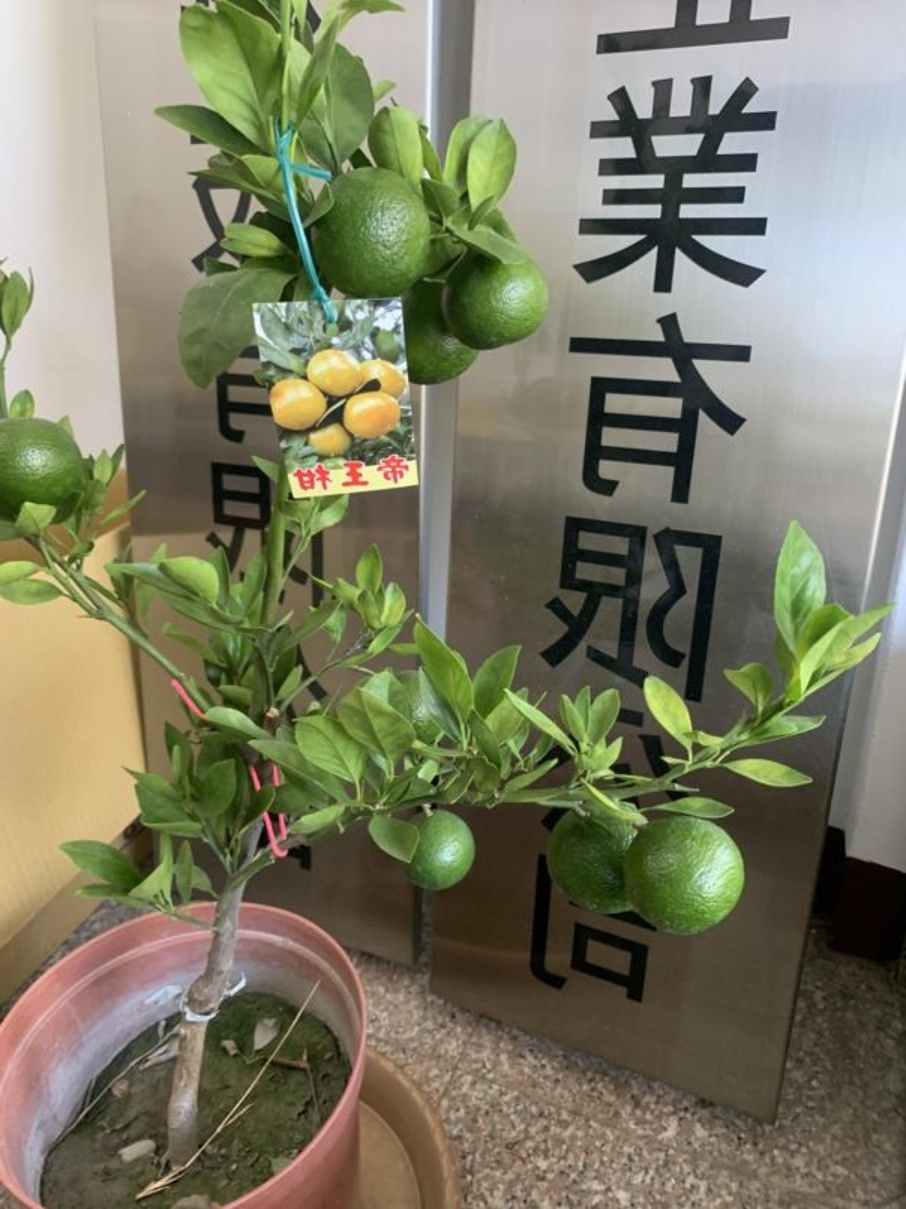Tangerine: (315, 161, 430, 298), (630, 813, 746, 937), (446, 242, 550, 349), (548, 802, 644, 915), (0, 413, 83, 525), (401, 806, 477, 887)
